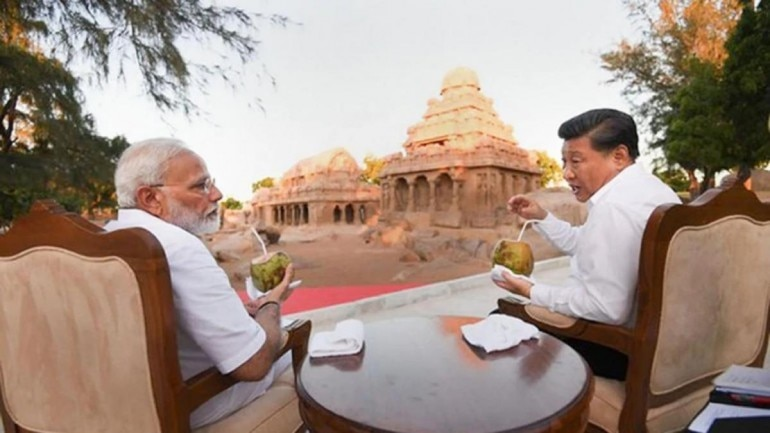modi: (98, 129, 235, 266)
